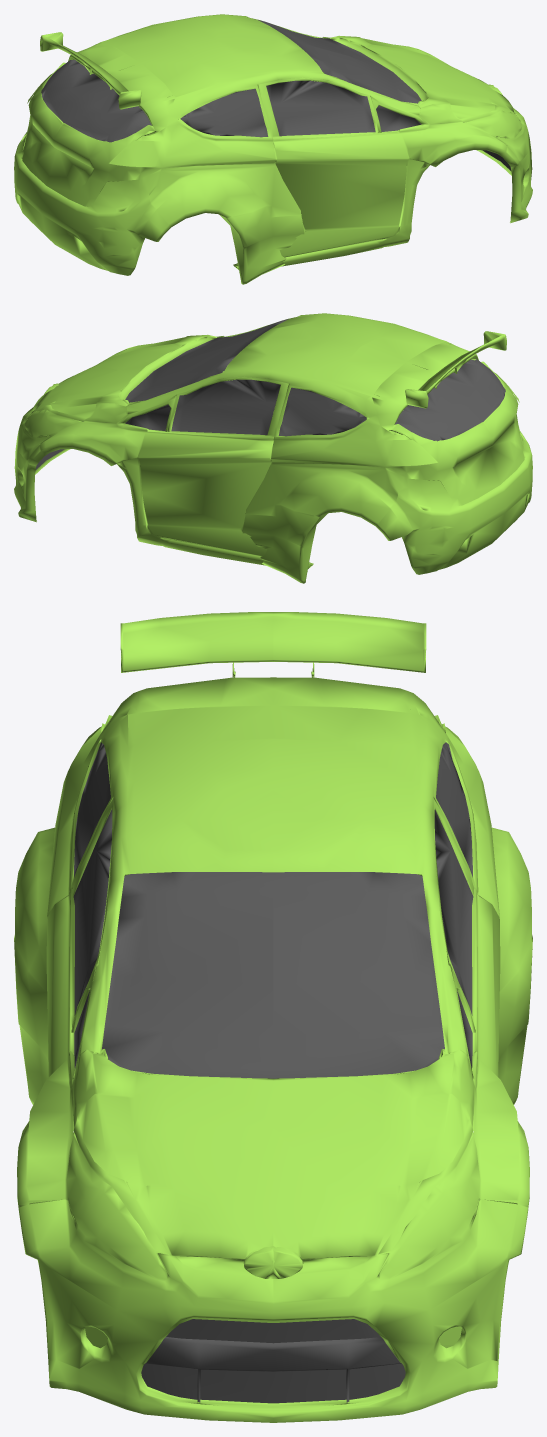
Rendered from body.dae.
3 renders of one model, top to bottom at view 1: azimuth 30°, elevation 25°; view 2: azimuth 150°, elevation 25°; view 3: azimuth 270°, elevation 25°, orthographic. The views are drawn at different scales.
Visible parts, largest first — view 1: MainBody; view 2: MainBody; view 3: MainBody.
Part boxes in pixels (x1,y1,x2,y2): MainBody: (14, 14, 532, 284); MainBody: (14, 313, 532, 583); MainBody: (14, 612, 532, 1422).
Bounding box in the file's own units: 0.567 × 0.2817 × 0.2465.
